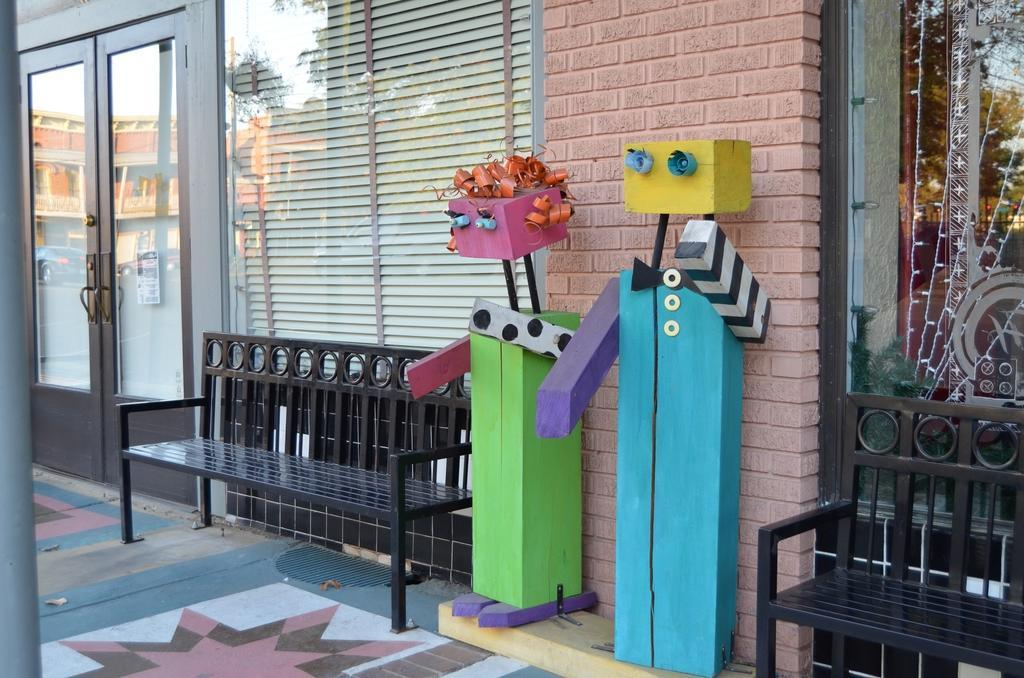door: (102, 24, 182, 488), (34, 46, 96, 443)
handle: (79, 279, 93, 324), (94, 279, 108, 323)
